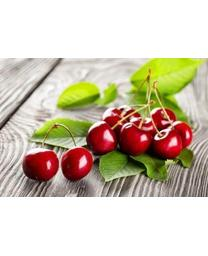cherry: (23, 149, 59, 181), (119, 122, 152, 156), (61, 146, 93, 180), (85, 121, 117, 155), (103, 107, 143, 133), (152, 126, 183, 158), (165, 121, 192, 148), (150, 107, 174, 134)
